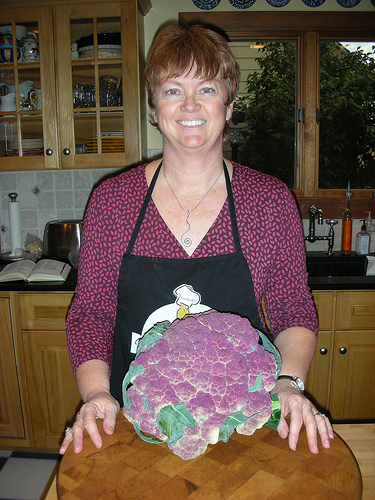cauliflower: (120, 302, 282, 467)
